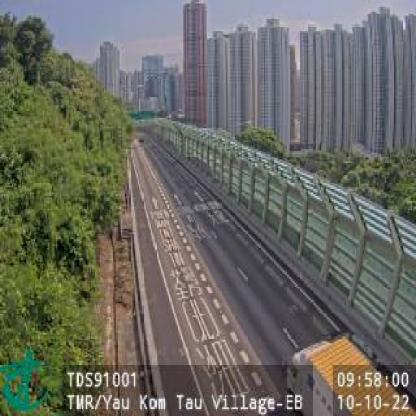Truck: (290, 328, 414, 416)
